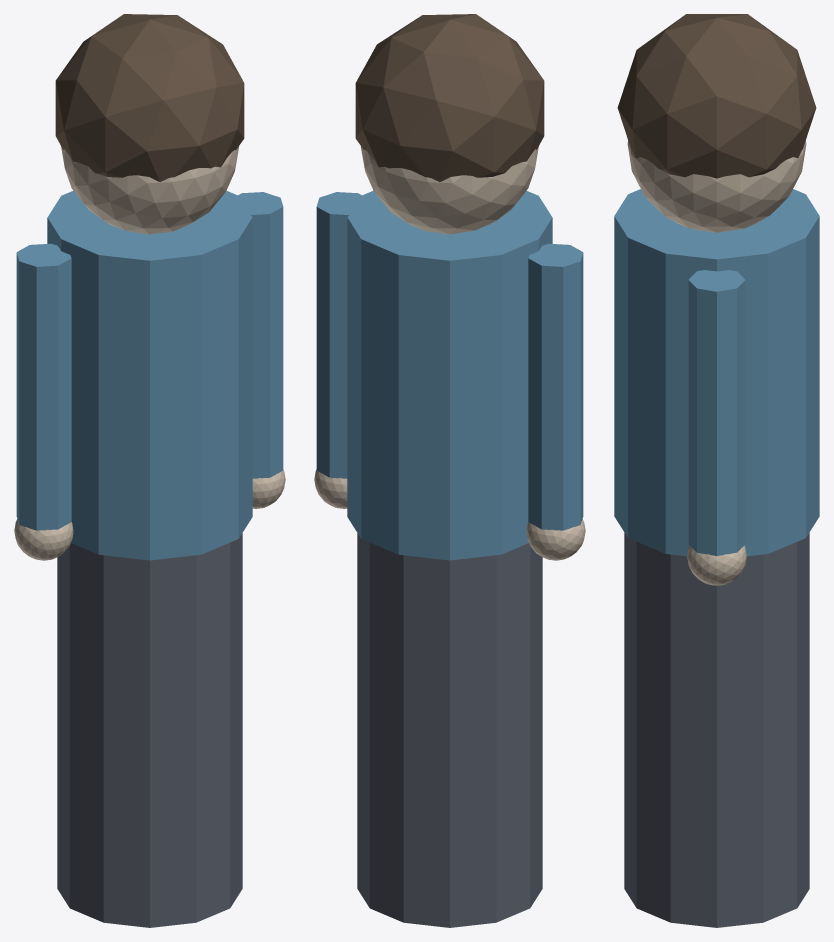
File: persona_m.glb
3 renders of one model, left to right at view 1: azimuth 30°, elevation 25°; view 2: azimuth 150°, elevation 25°; view 3: azimuth 270°, elevation 25°, orthographic.
Parts seen in each view (by area): view 1: p0, p1, p7, p2, p3, p6, p4, p5; view 2: p0, p1, p7, p2, p3, p6, p4, p5; view 3: p0, p1, p7, p3, p6, p5.
Part boxes in pixels (bbox=[...]): p0: bbox=[57, 533, 242, 927]; p1: bbox=[47, 190, 252, 560]; p7: bbox=[55, 14, 244, 181]; p2: bbox=[16, 243, 71, 530]; p3: bbox=[238, 192, 283, 478]; p6: bbox=[61, 146, 239, 234]; p4: bbox=[14, 519, 73, 560]; p5: bbox=[252, 469, 285, 508]; p0: bbox=[357, 533, 542, 927]; p1: bbox=[347, 190, 552, 560]; p7: bbox=[355, 14, 544, 181]; p2: bbox=[528, 243, 583, 530]; p3: bbox=[316, 192, 361, 478]; p6: bbox=[360, 146, 538, 234]; p4: bbox=[526, 519, 585, 560]; p5: bbox=[314, 469, 347, 508]; p0: bbox=[624, 532, 809, 927]; p1: bbox=[614, 189, 819, 556]; p7: bbox=[617, 14, 816, 178]; p3: bbox=[688, 270, 745, 555]; p6: bbox=[627, 140, 806, 232]; p5: bbox=[687, 545, 746, 585].
Size of the model in its own units: 0.46 by 1.45 by 0.31.
